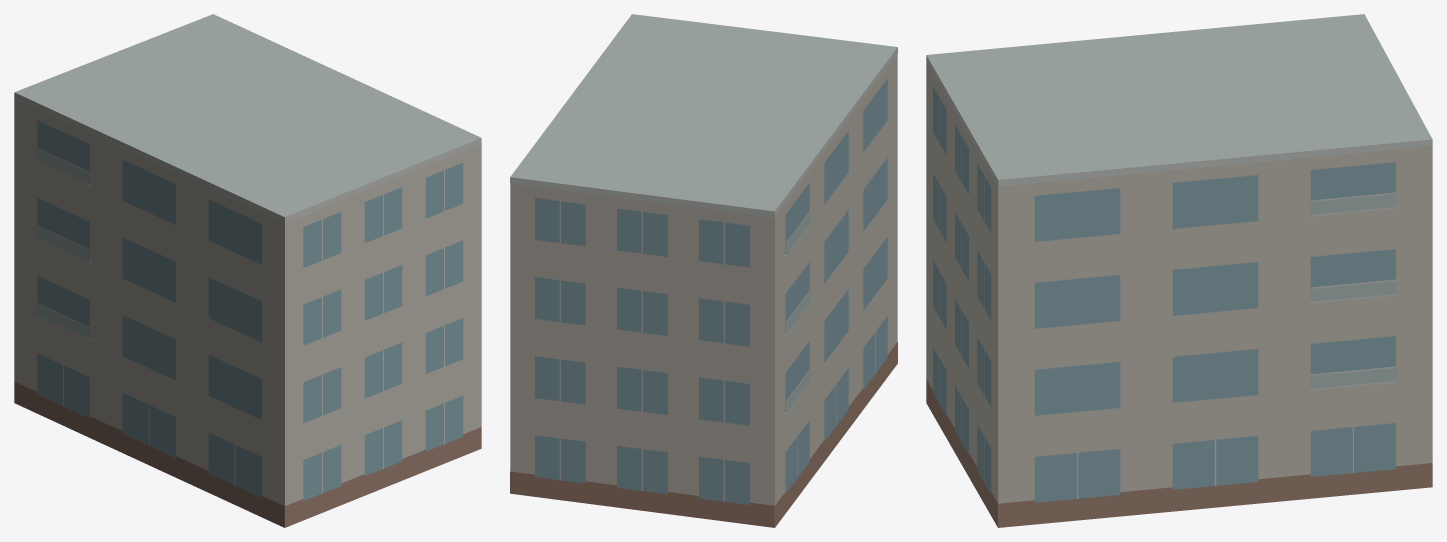
Rendered from survey-upis-32813180.glb.
3 views of the same model, side by side, from view 1: azimuth 30°, elevation 25°; view 2: azimuth 150°, elevation 25°; view 3: azimuth 270°, elevation 25° (orthographic). The views are drawn at different scales.
Visible parts, largest first — view 1: survey-upis-32813180.tmp; view 2: survey-upis-32813180.tmp; view 3: survey-upis-32813180.tmp.
Boxes of the visible parts, x1,y1,x2,y2 form: survey-upis-32813180.tmp: [14, 14, 481, 527]; survey-upis-32813180.tmp: [510, 14, 897, 527]; survey-upis-32813180.tmp: [926, 14, 1432, 527].
Size of the model in its own units: 12.96 by 12.65 by 16.7.
